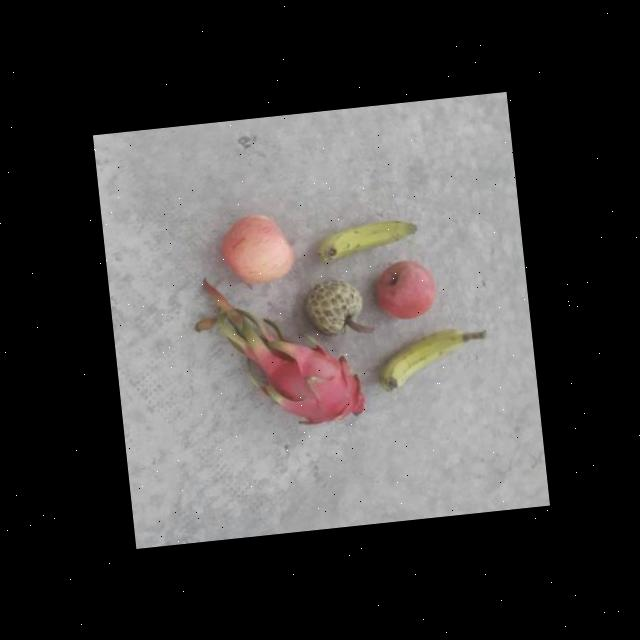Sakya fruit: (306, 276, 364, 342)
apple: (208, 207, 300, 290), (362, 253, 441, 323)
banana: (308, 207, 417, 264), (374, 332, 471, 392)
pitaya: (258, 334, 366, 434)
